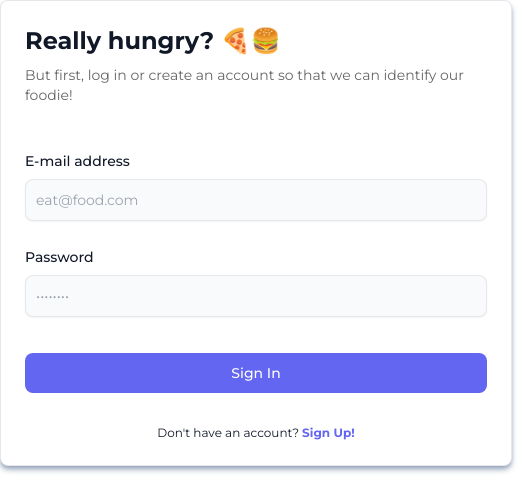
Test: <AuthForm /> › Should catch a server side error, display error message in the Alert and dismiss the Alert
The width and height of the screenshot is (532, 490).
In the field labelled "E-mail address": (256, 200) [25,179,487,221], type "test@email.com"
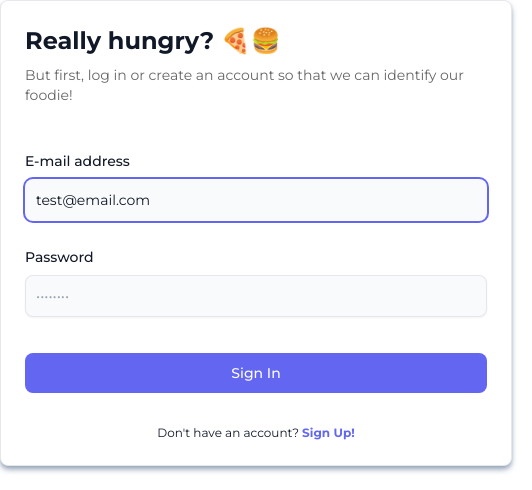
In the password field labelled "Password": (256, 296) [25,275,487,317], type "Password1"
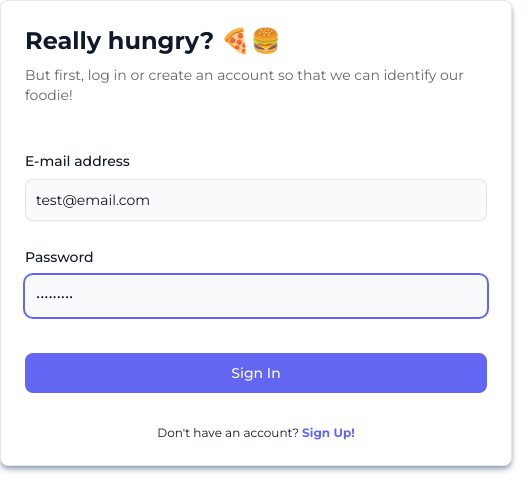
Click the button "Sign In": click(256, 373) [25,353,487,393]
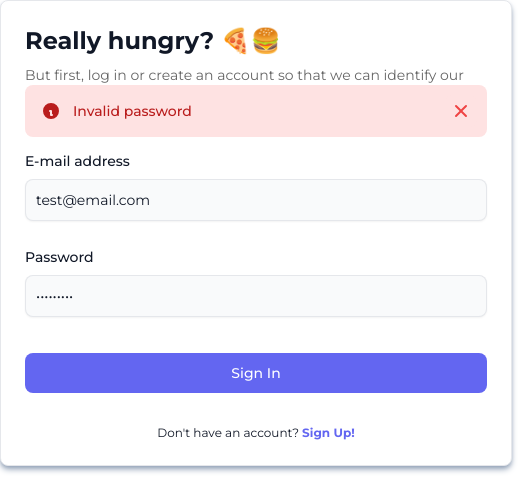
Check: the text "Invalid password" is shown, box [73,101,192,121]
Click the button named "Close": click(461, 111) [445,95,477,127]
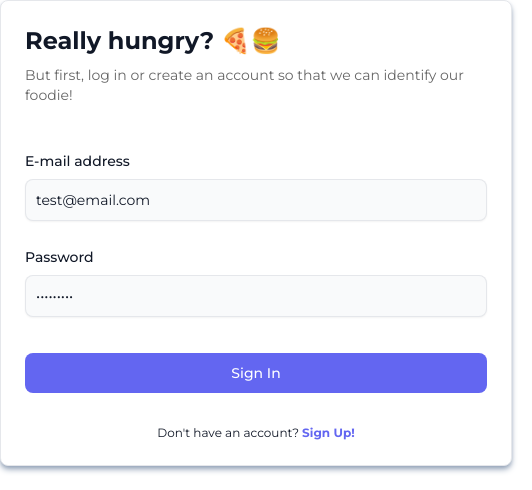
Check: the text "Invalid password" is gone
